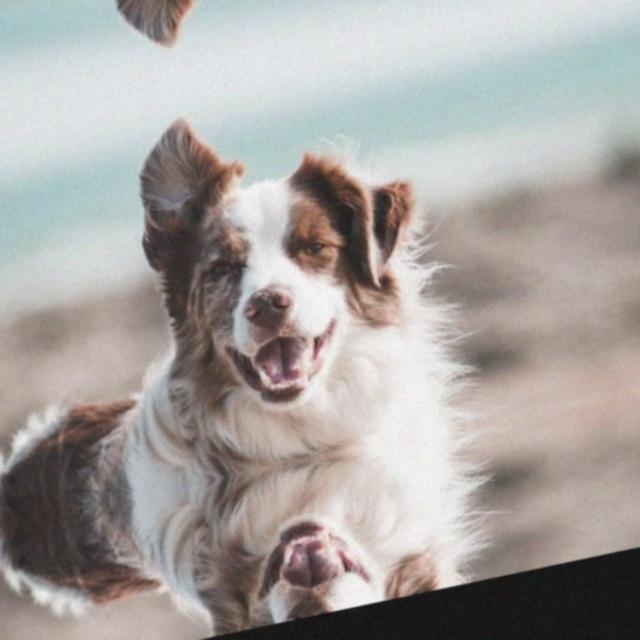dog: (0, 67, 474, 526), (0, 425, 495, 640), (0, 0, 417, 96)
